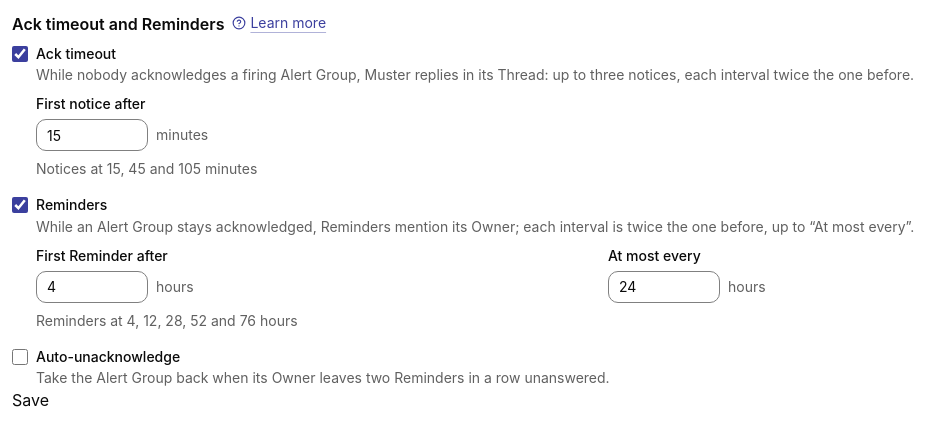
Test case: RoutePolicyTimers › shows the Paging values and the times they give
The image size is (931, 424).
Expected: the switch labelled "Ack timeout" is checked, [12,46,28,62]
Expected: the text with test id "ack-timeout-times" reads "Notices at 15, 45 and 105 minutes", [36,160,257,177]
Replace the text in the number field labelled "First notice after" with "10" at point(92, 135), box [36,119,148,151]
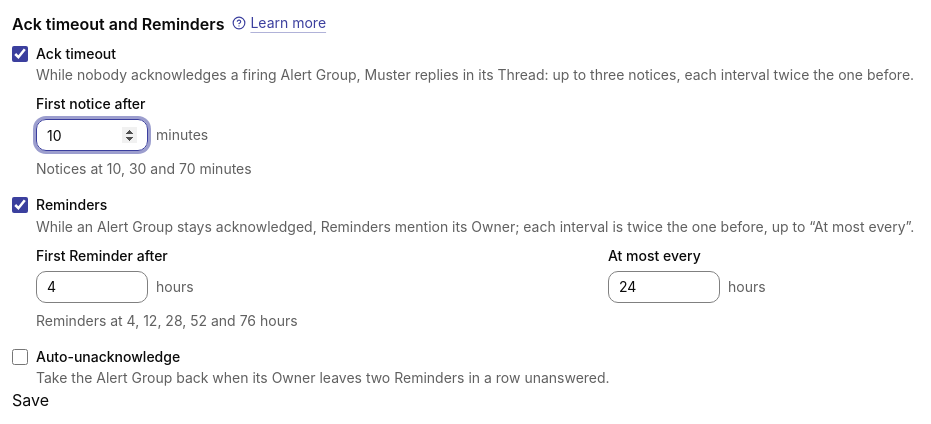
Result: the text with test id "ack-timeout-times" reads "Notices at 10, 30 and 70 minutes" at [36,160,252,177]
